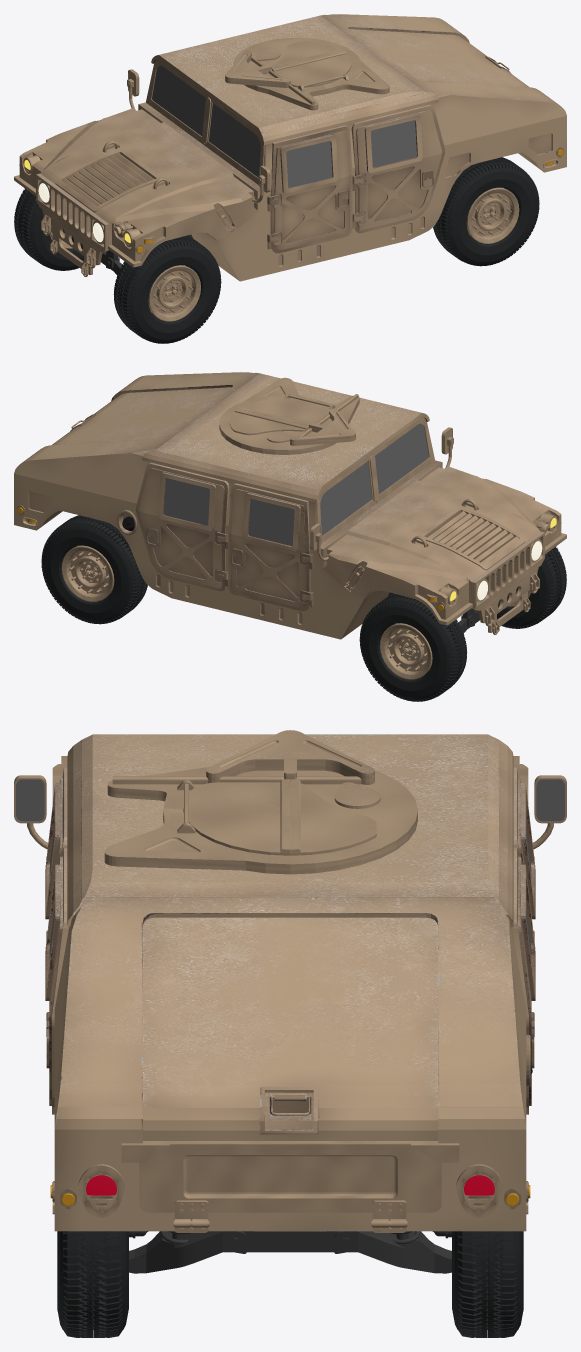
The model's file is HMMWV.gltf.
3 views of the same model, one above another, from view 1: azimuth 30°, elevation 25°; view 2: azimuth 150°, elevation 25°; view 3: azimuth 270°, elevation 25° (orthographic). The views are drawn at different scales.
Parts seen in each view (by area): view 1: Cube, Cube.004, BAN.001, Cube.025, Cube.016, BAN; view 2: Cube, Cube.004, BAN.001, Cube.025, Cube.016, BAN; view 3: Cube, BAN, Cylinder.026, Cube.025, Cube.004, Cube.016.
Boxes of the visible parts, bbox=[...] form: Cube: bbox=[112, 14, 566, 281]; Cube.004: bbox=[14, 69, 270, 276]; BAN.001: bbox=[14, 188, 221, 343]; Cube.025: bbox=[351, 104, 445, 233]; Cube.016: bbox=[267, 125, 352, 253]; BAN: bbox=[433, 157, 539, 266]; Cube: bbox=[14, 372, 442, 639]; Cube.004: bbox=[310, 427, 566, 634]; BAN.001: bbox=[359, 546, 566, 701]; Cube.025: bbox=[135, 462, 229, 591]; Cube.016: bbox=[228, 483, 313, 611]; BAN: bbox=[41, 515, 147, 624]; Cube: bbox=[50, 730, 532, 1232]; BAN: bbox=[57, 1231, 523, 1337]; Cylinder.026: bbox=[129, 1231, 451, 1273]; Cube.025: bbox=[45, 847, 535, 1114]; Cube.004: bbox=[14, 756, 566, 849]; Cube.016: bbox=[45, 767, 535, 937].
Bounding box in the file's own units: 4.58 × 1.95 × 2.48.
Materials: 21 (17 with a texture image).
